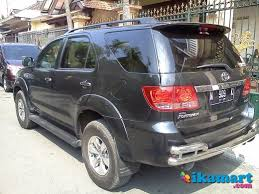plate: (210, 87, 235, 105)
